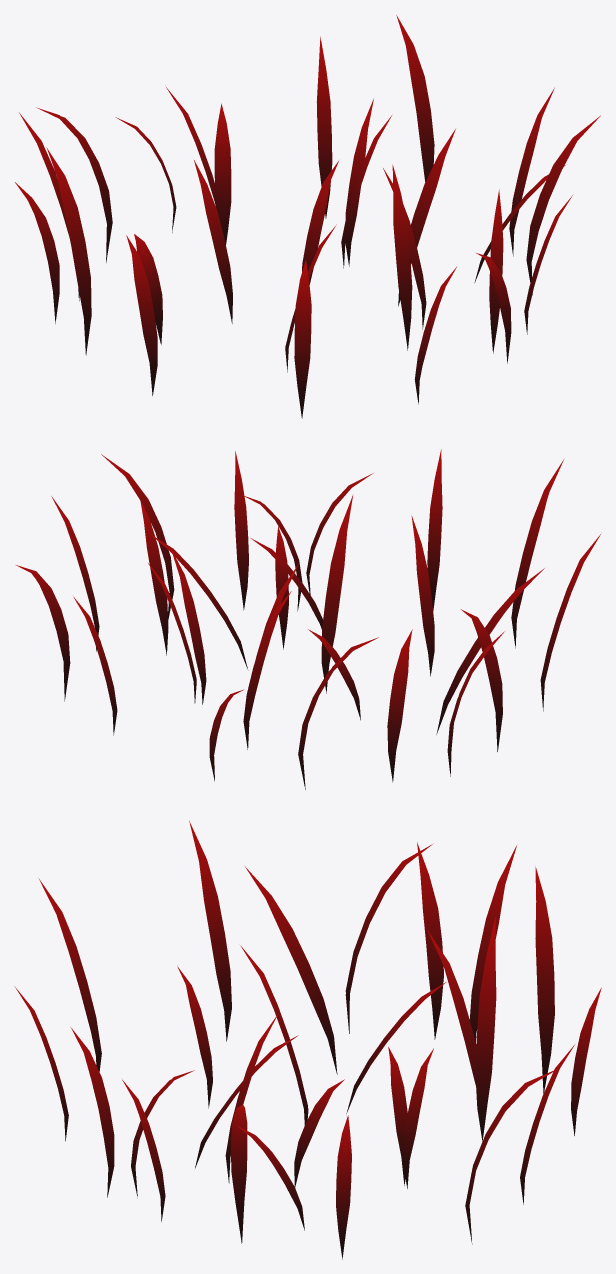
File: Grama.fbx
The picture shows the model from 3 angles, top to bottom: view 1: azimuth 30°, elevation 25°; view 2: azimuth 150°, elevation 25°; view 3: azimuth 270°, elevation 25°; orthographic projection. The views are drawn at different scales.
Visible parts, largest first — view 1: Grass; view 2: Grass; view 3: Grass.
Boxes of the visible parts, x1,y1,x2,y2 form: Grass: (15, 15, 600, 418); Grass: (16, 449, 600, 789); Grass: (14, 821, 601, 1259).
Size of the model in its own units: 3.28 by 1.16 by 3.06.
